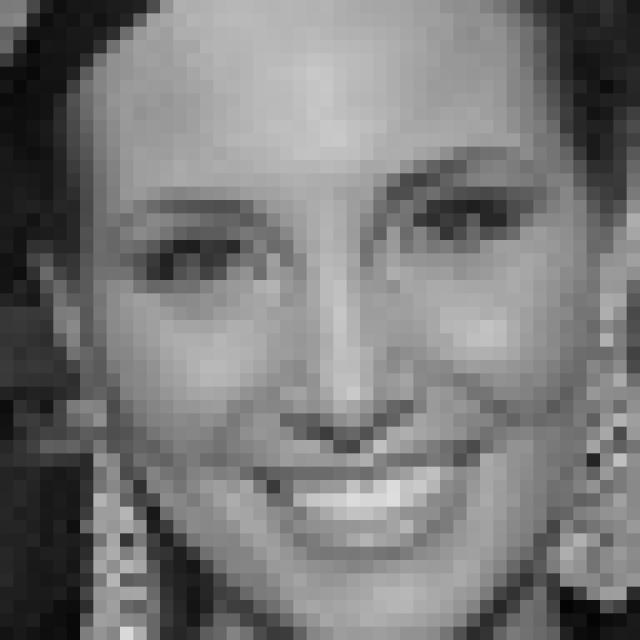happy: (114, 138, 565, 579)
